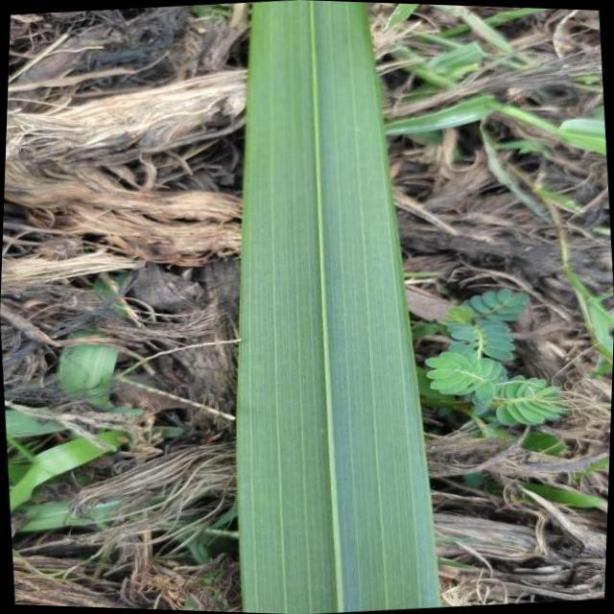Healthy: (241, 0, 440, 614)
